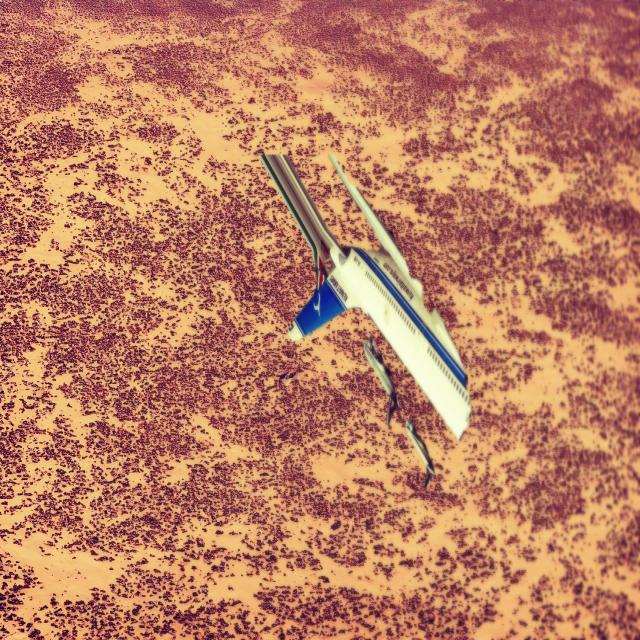airplane: (259, 149, 472, 446), (360, 336, 397, 426), (406, 419, 437, 475)
